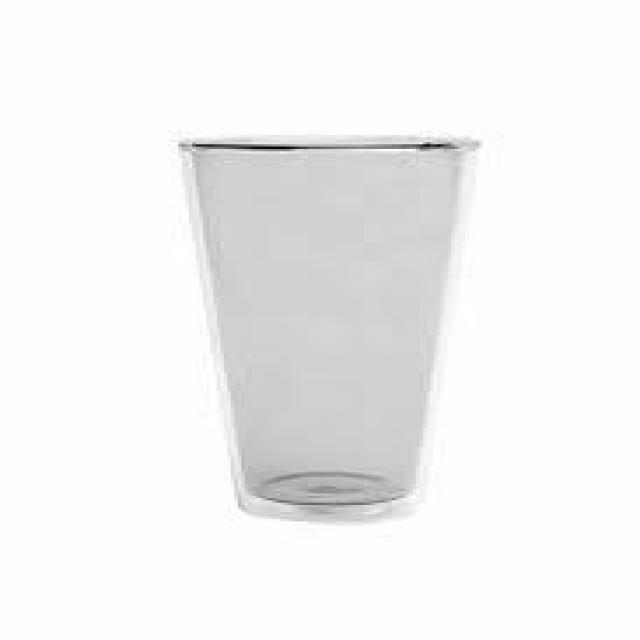non-organic waste: (173, 132, 484, 522)
